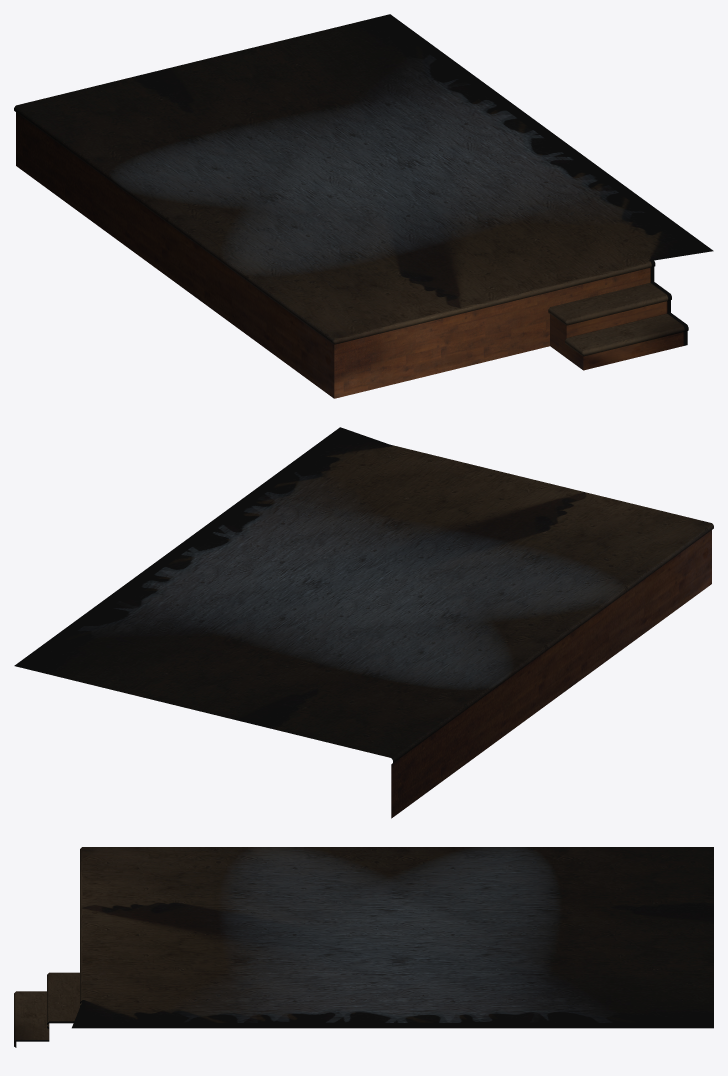
File: stage3.obj
3 views of the same model, one above another, from view 1: azimuth 30°, elevation 25°; view 2: azimuth 150°, elevation 25°; view 3: azimuth 270°, elevation 25° (orthographic).
Parts seen in each view (by area): view 1: stage4 group5 BakedQuadGeos; view 2: stage4 group5 BakedQuadGeos; view 3: stage4 group5 BakedQuadGeos.
Part boxes in pixels (box(x1,y1,x2,y2)): stage4 group5 BakedQuadGeos: box(14, 14, 713, 398); stage4 group5 BakedQuadGeos: box(14, 427, 713, 818); stage4 group5 BakedQuadGeos: box(14, 847, 713, 1047).
Bounding box in the file's own units: 5.11 × 0.7821 × 8.29.
Materials: 1 (1 with a texture image).
